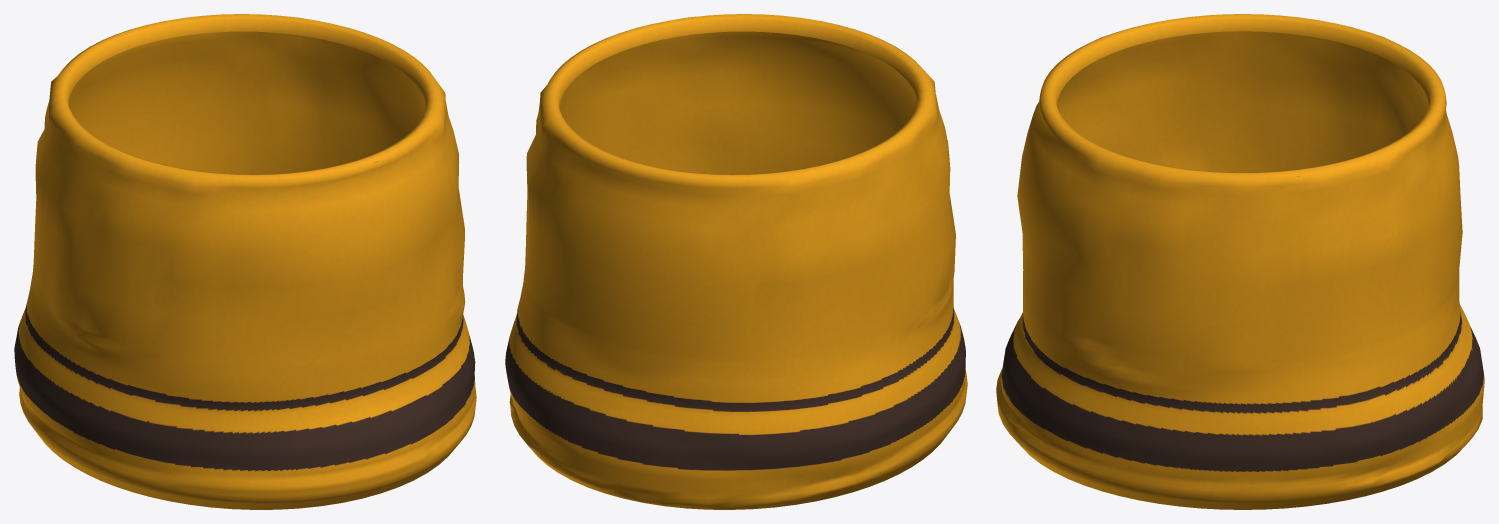
Rendered from sweater.fbx.
3 views of the same model, side by side, from view 1: azimuth 30°, elevation 25°; view 2: azimuth 150°, elevation 25°; view 3: azimuth 270°, elevation 25° (orthographic).
Visible parts, largest first — view 1: sweater; view 2: sweater; view 3: sweater.
Boxes of the visible parts, x1,y1,x2,y2 form: sweater: (14,14,476,509); sweater: (505,14,967,509); sweater: (996,14,1484,509).
Bounding box in the file's own units: 66.1 × 51.7 × 70.48.
Materials: 1 (1 with a texture image).
